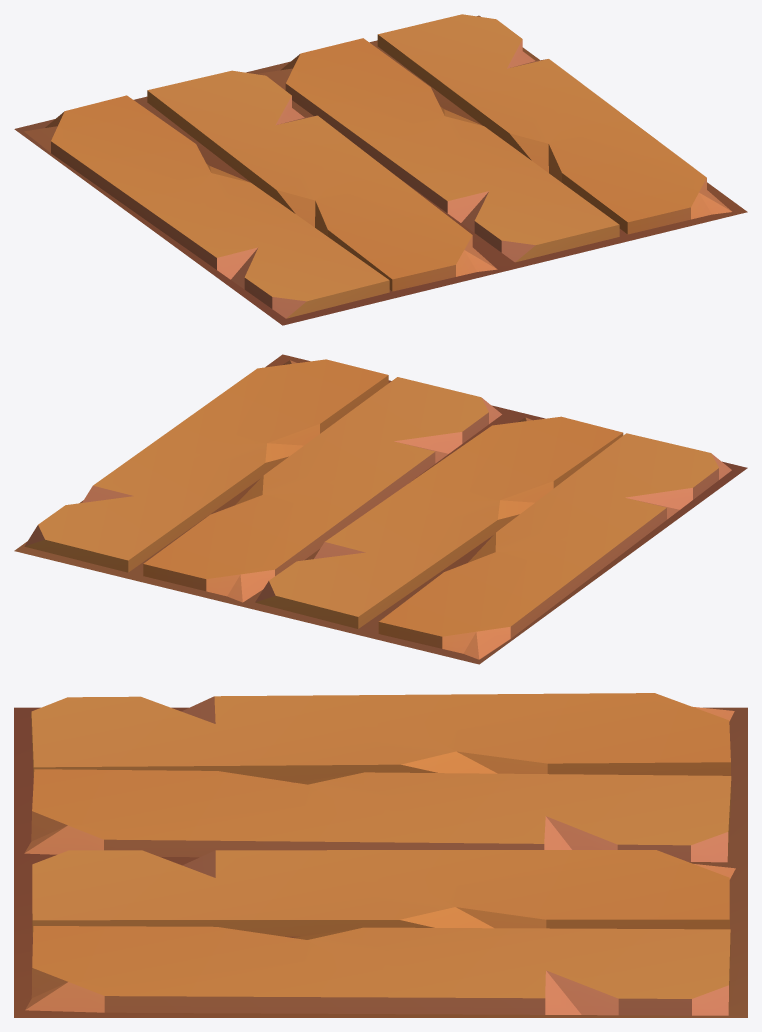
The model's file is planks_mesh_1.fbx.
3 renders of one model, top to bottom at view 1: azimuth 30°, elevation 25°; view 2: azimuth 150°, elevation 25°; view 3: azimuth 270°, elevation 25°, orthographic. The views are drawn at different scales.
Visible parts, largest first — view 1: Plane.009; view 2: Plane.009; view 3: Plane.009.
Boxes of the visible parts, x1,y1,x2,y2 form: Plane.009: (14, 14, 747, 325); Plane.009: (14, 354, 747, 664); Plane.009: (14, 693, 747, 1017).
Size of the model in its own units: 400 by 10 by 400.
